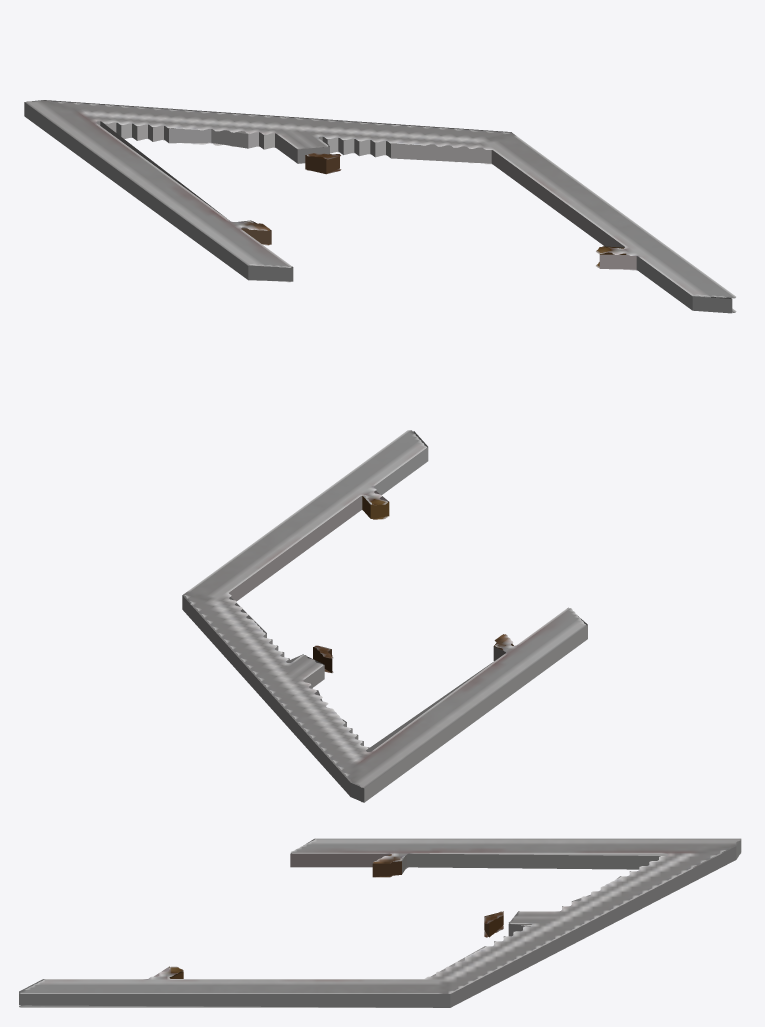
The model's file is pz_native_location_community_church_small_01_264_frame.obj.
3 renders of one model, top to bottom at view 1: azimuth 30°, elevation 25°; view 2: azimuth 150°, elevation 25°; view 3: azimuth 270°, elevation 25°, orthographic. The views are drawn at different scales.
Parts seen in each view (by area): view 1: pz_native_location_community_church_small_01_264_frame; view 2: pz_native_location_community_church_small_01_264_frame; view 3: pz_native_location_community_church_small_01_264_frame.
Part boxes in pixels (x1,y1,x2,y2): pz_native_location_community_church_small_01_264_frame: [24, 100, 736, 313]; pz_native_location_community_church_small_01_264_frame: [182, 430, 587, 802]; pz_native_location_community_church_small_01_264_frame: [19, 838, 741, 1007].
Size of the model in its own units: 1.02 by 0.04 by 1.94.
Materials: 1 (1 with a texture image).
